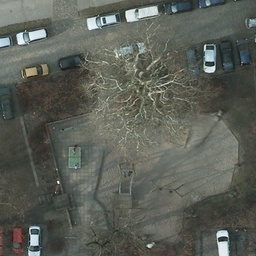car: (126, 1, 160, 30), (88, 11, 123, 37), (163, 1, 197, 23), (16, 27, 47, 47), (195, 1, 229, 16), (26, 222, 41, 256), (11, 222, 26, 256), (1, 86, 15, 120), (59, 52, 88, 67), (21, 63, 50, 78), (115, 39, 146, 53), (231, 226, 246, 254), (213, 226, 228, 254), (184, 49, 199, 77), (201, 46, 216, 74), (219, 42, 234, 70), (237, 38, 252, 66), (1, 34, 12, 49)
